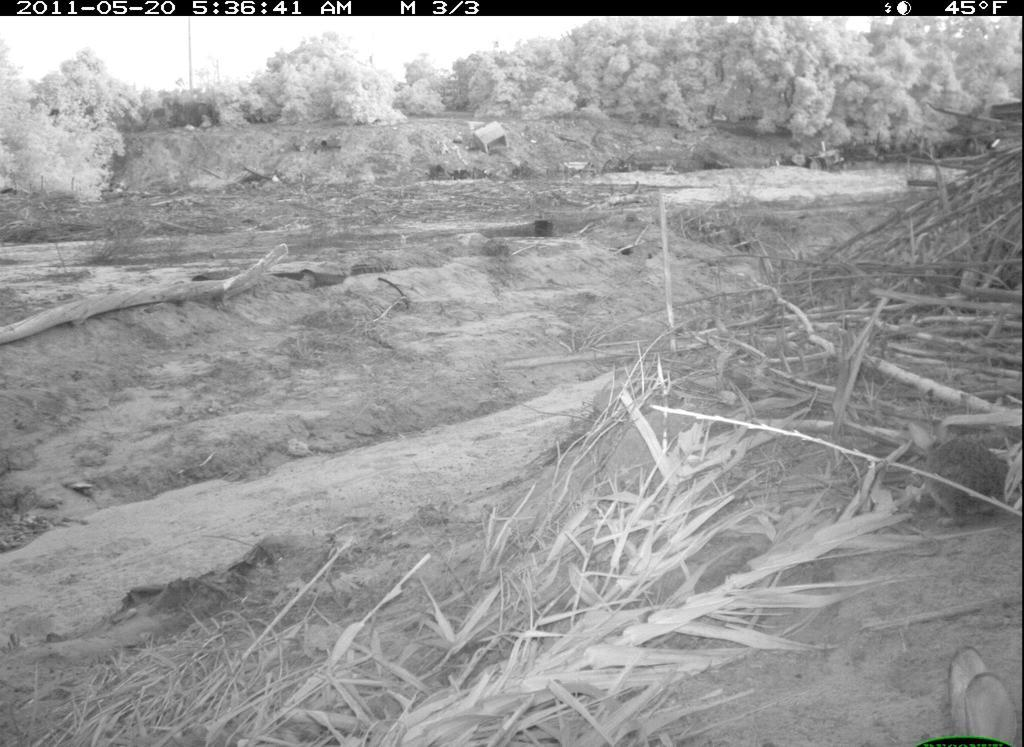rabbit: (898, 410, 1017, 538), (936, 641, 1024, 747)
